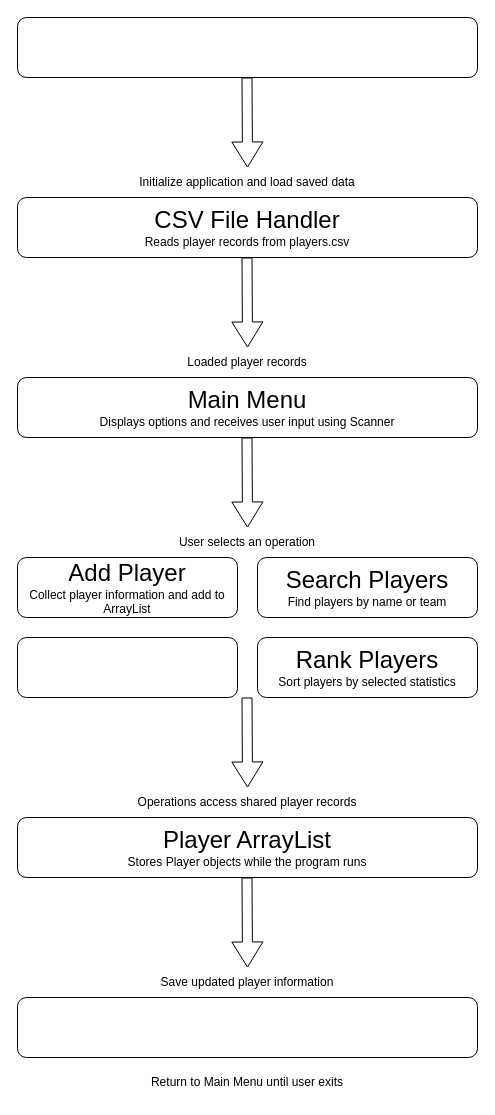
The diagram is 495 pixels wide and 1115 high, and some of its shapes have lost their labels. Each missing label, with the centre of its shape:
"Compare Players Compare goals, assists, appearances" belongs at (x=127, y=667).
"players.csv Persistent storage of player records" belongs at (x=247, y=1027).
"Start: Main.java Program entry point" belongs at (x=247, y=47).
